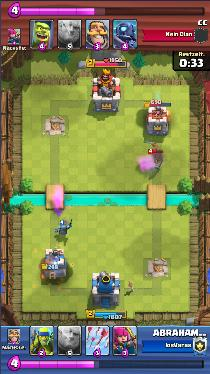ally_mini_pekka: (54, 221, 73, 238)
enemy_musketeer: (150, 151, 166, 169)
